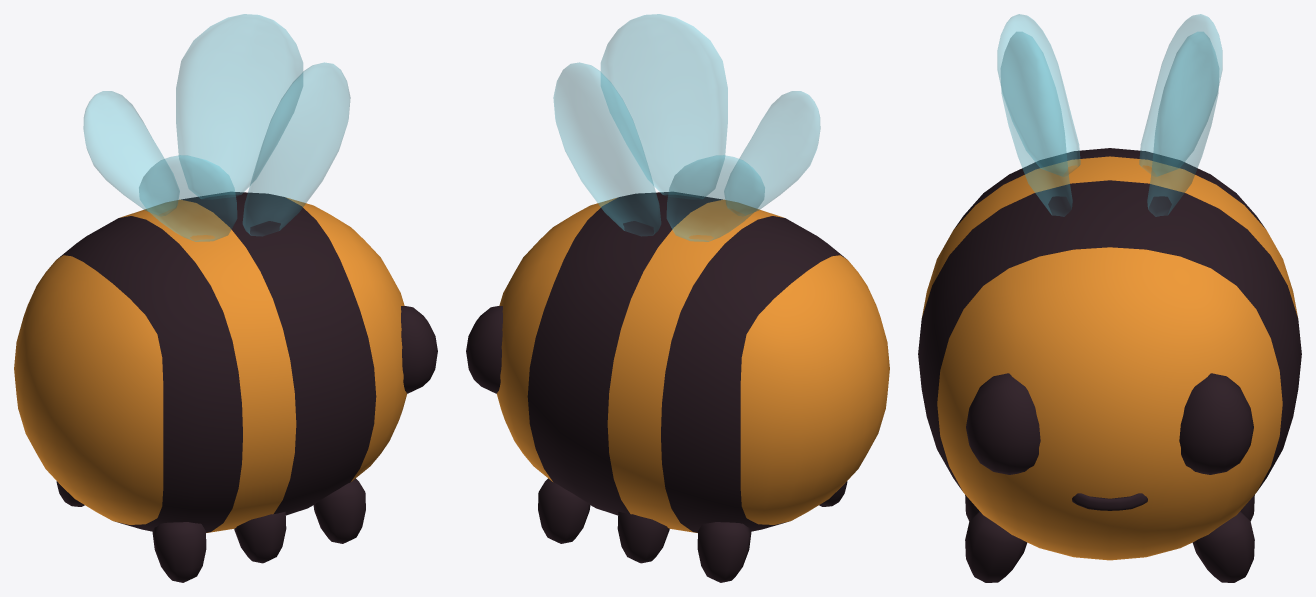
Rendered from bee.fbx.
The picture shows the model from 3 angles, left to right: view 1: azimuth 30°, elevation 25°; view 2: azimuth 150°, elevation 25°; view 3: azimuth 270°, elevation 25°; orthographic projection. The views are drawn at different scales.
Visible parts, largest first — view 1: bee_body, bee_wing_l, bee_wing_r, bee_legs, bee_face; view 2: bee_body, bee_wing_r, bee_wing_l, bee_legs, bee_face; view 3: bee_body, bee_face, bee_wing_l, bee_wing_r, bee_legs.
Part boxes in pixels (bbox=[...]): bee_body: bbox=[14, 192, 406, 532]; bee_wing_l: bbox=[83, 14, 302, 215]; bee_wing_r: bbox=[139, 62, 350, 241]; bee_legs: bbox=[56, 478, 365, 582]; bee_face: bbox=[401, 306, 437, 393]; bee_body: bbox=[497, 192, 889, 532]; bee_wing_r: bbox=[601, 14, 820, 215]; bee_wing_l: bbox=[553, 62, 764, 241]; bee_legs: bbox=[538, 478, 847, 582]; bee_face: bbox=[466, 306, 502, 393]; bee_body: bbox=[918, 148, 1301, 560]; bee_face: bbox=[966, 373, 1253, 510]; bee_wing_l: bbox=[1139, 14, 1222, 216]; bee_wing_r: bbox=[997, 14, 1080, 216]; bee_legs: bbox=[965, 495, 1254, 582].
Bounding box in the file's own units: 206 × 260 × 168.
